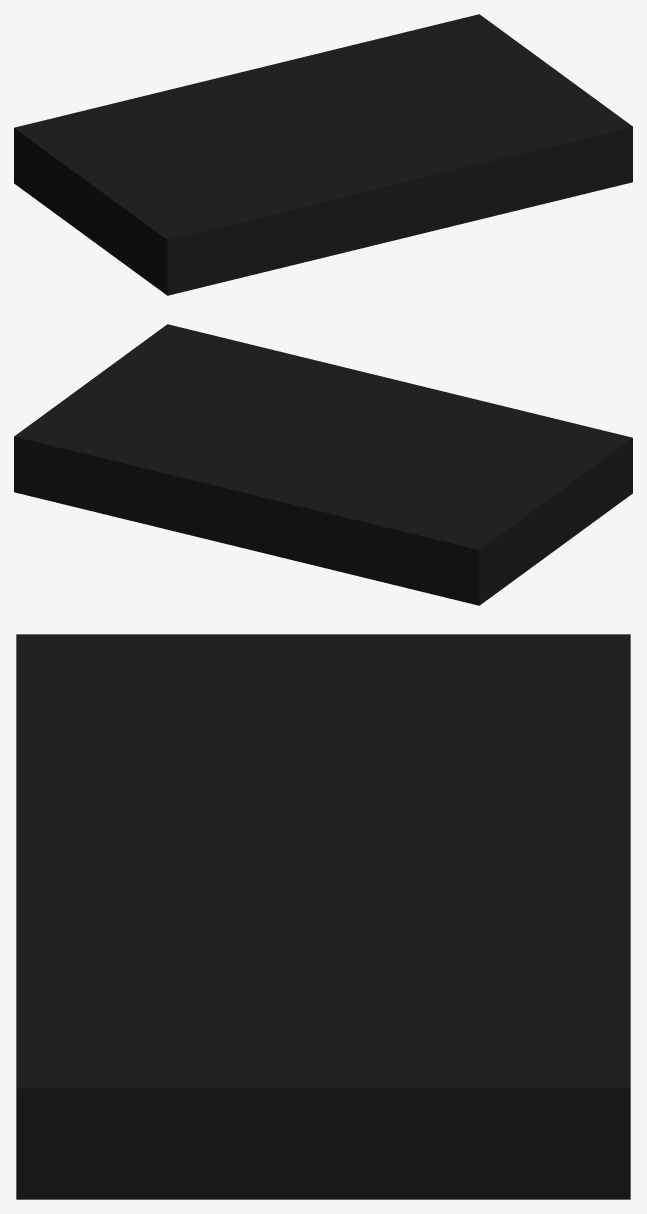
Rendered from EnclosedRoom.fbx.
3 renders of one model, top to bottom at view 1: azimuth 30°, elevation 25°; view 2: azimuth 150°, elevation 25°; view 3: azimuth 270°, elevation 25°, orthographic. The views are drawn at different scales.
Visible parts, largest first — view 1: ClosedRoom.003; view 2: ClosedRoom.003; view 3: ClosedRoom.003.
Boxes of the visible parts, <box> form: ClosedRoom.003: <box>14,14,632,295</box>; ClosedRoom.003: <box>14,324,632,605</box>; ClosedRoom.003: <box>16,634,630,1199</box>.
Bounding box in the file's own units: 3500 × 400 × 2000.
